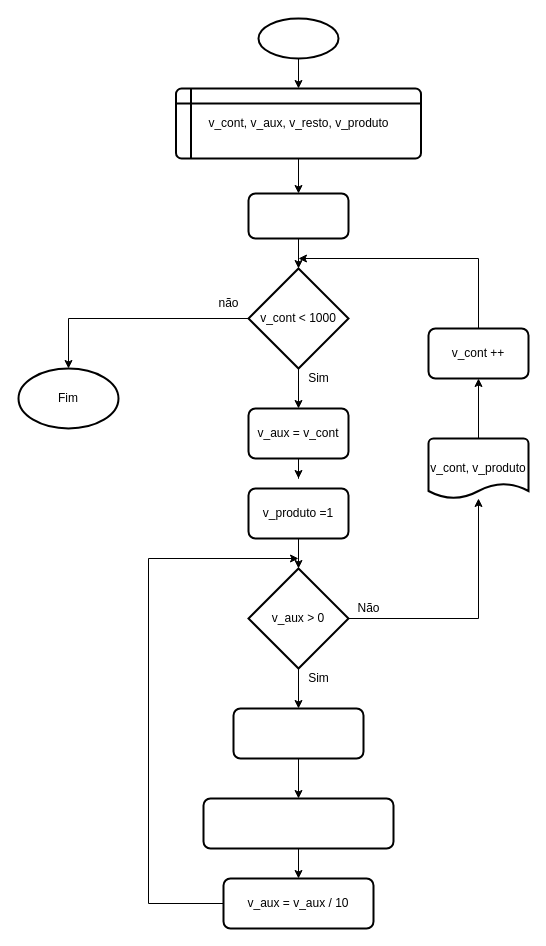
Some shapes in this 546 by 946 pixel diagram are drawn without their labels. Each missing label, with the box of its shape:
inicio: (257, 17, 339, 59)
v_cont = 100: (247, 192, 349, 239)
v_produto = v_produto * v_resto: (202, 797, 394, 849)
v_resto = v_aux % 10: (232, 707, 364, 759)
